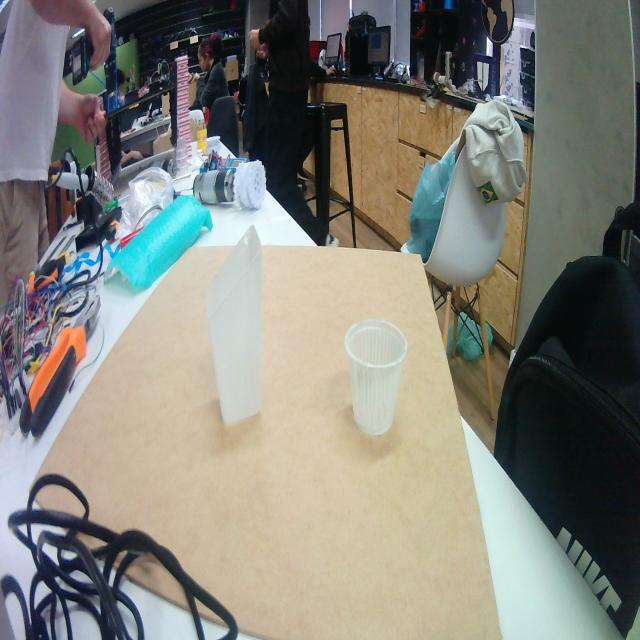erva_daninha: (206, 223, 263, 428)
planta: (344, 318, 407, 437)
